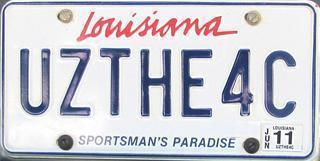placa de veiculo: (9, 4, 314, 157)
